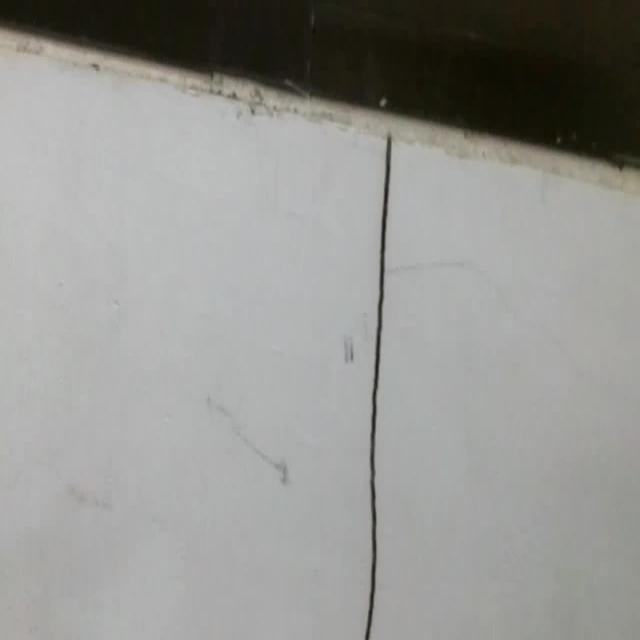Crack: (336, 122, 419, 639), (394, 215, 606, 374)
